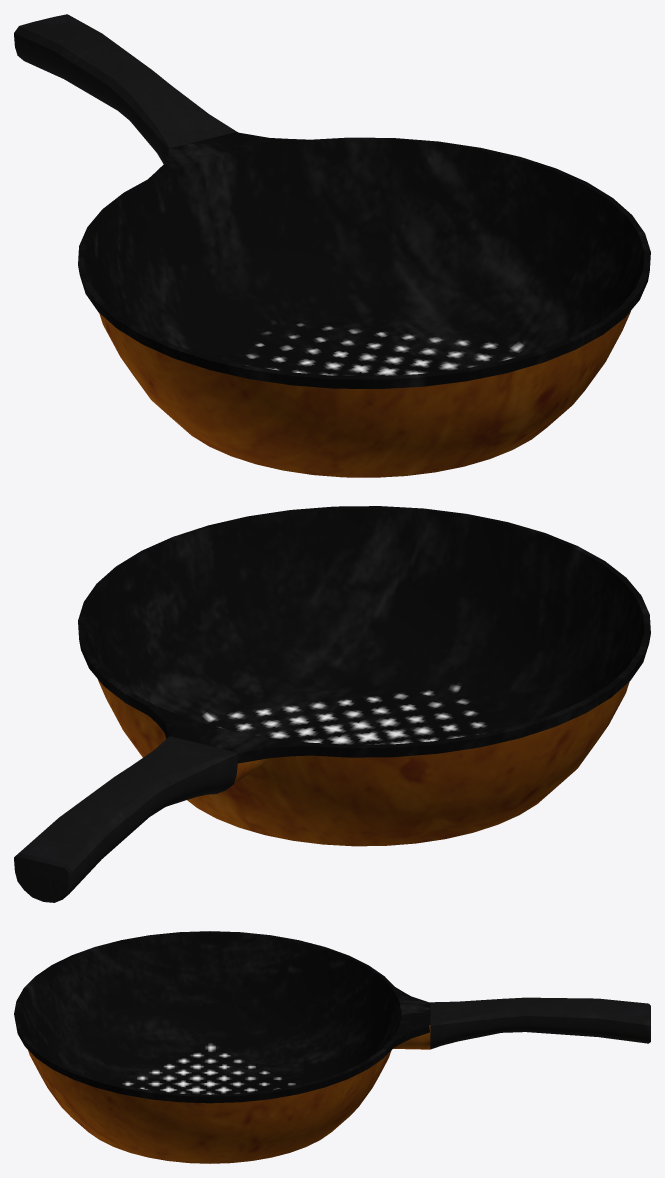
Rendered from Prop_Kitchen_Pan_x5.fbx.
3 views of the same model, one above another, from view 1: azimuth 30°, elevation 25°; view 2: azimuth 150°, elevation 25°; view 3: azimuth 270°, elevation 25° (orthographic). The views are drawn at different scales.
Parts seen in each view (by area): view 1: Prop_Kitchen_Pan_x5; view 2: Prop_Kitchen_Pan_x5; view 3: Prop_Kitchen_Pan_x5.
Boxes of the visible parts, x1,y1,x2,y2 form: Prop_Kitchen_Pan_x5: [14, 14, 650, 477]; Prop_Kitchen_Pan_x5: [14, 506, 650, 902]; Prop_Kitchen_Pan_x5: [14, 931, 650, 1163].
Size of the model in its own units: 18.21 by 5.27 by 29.58.
